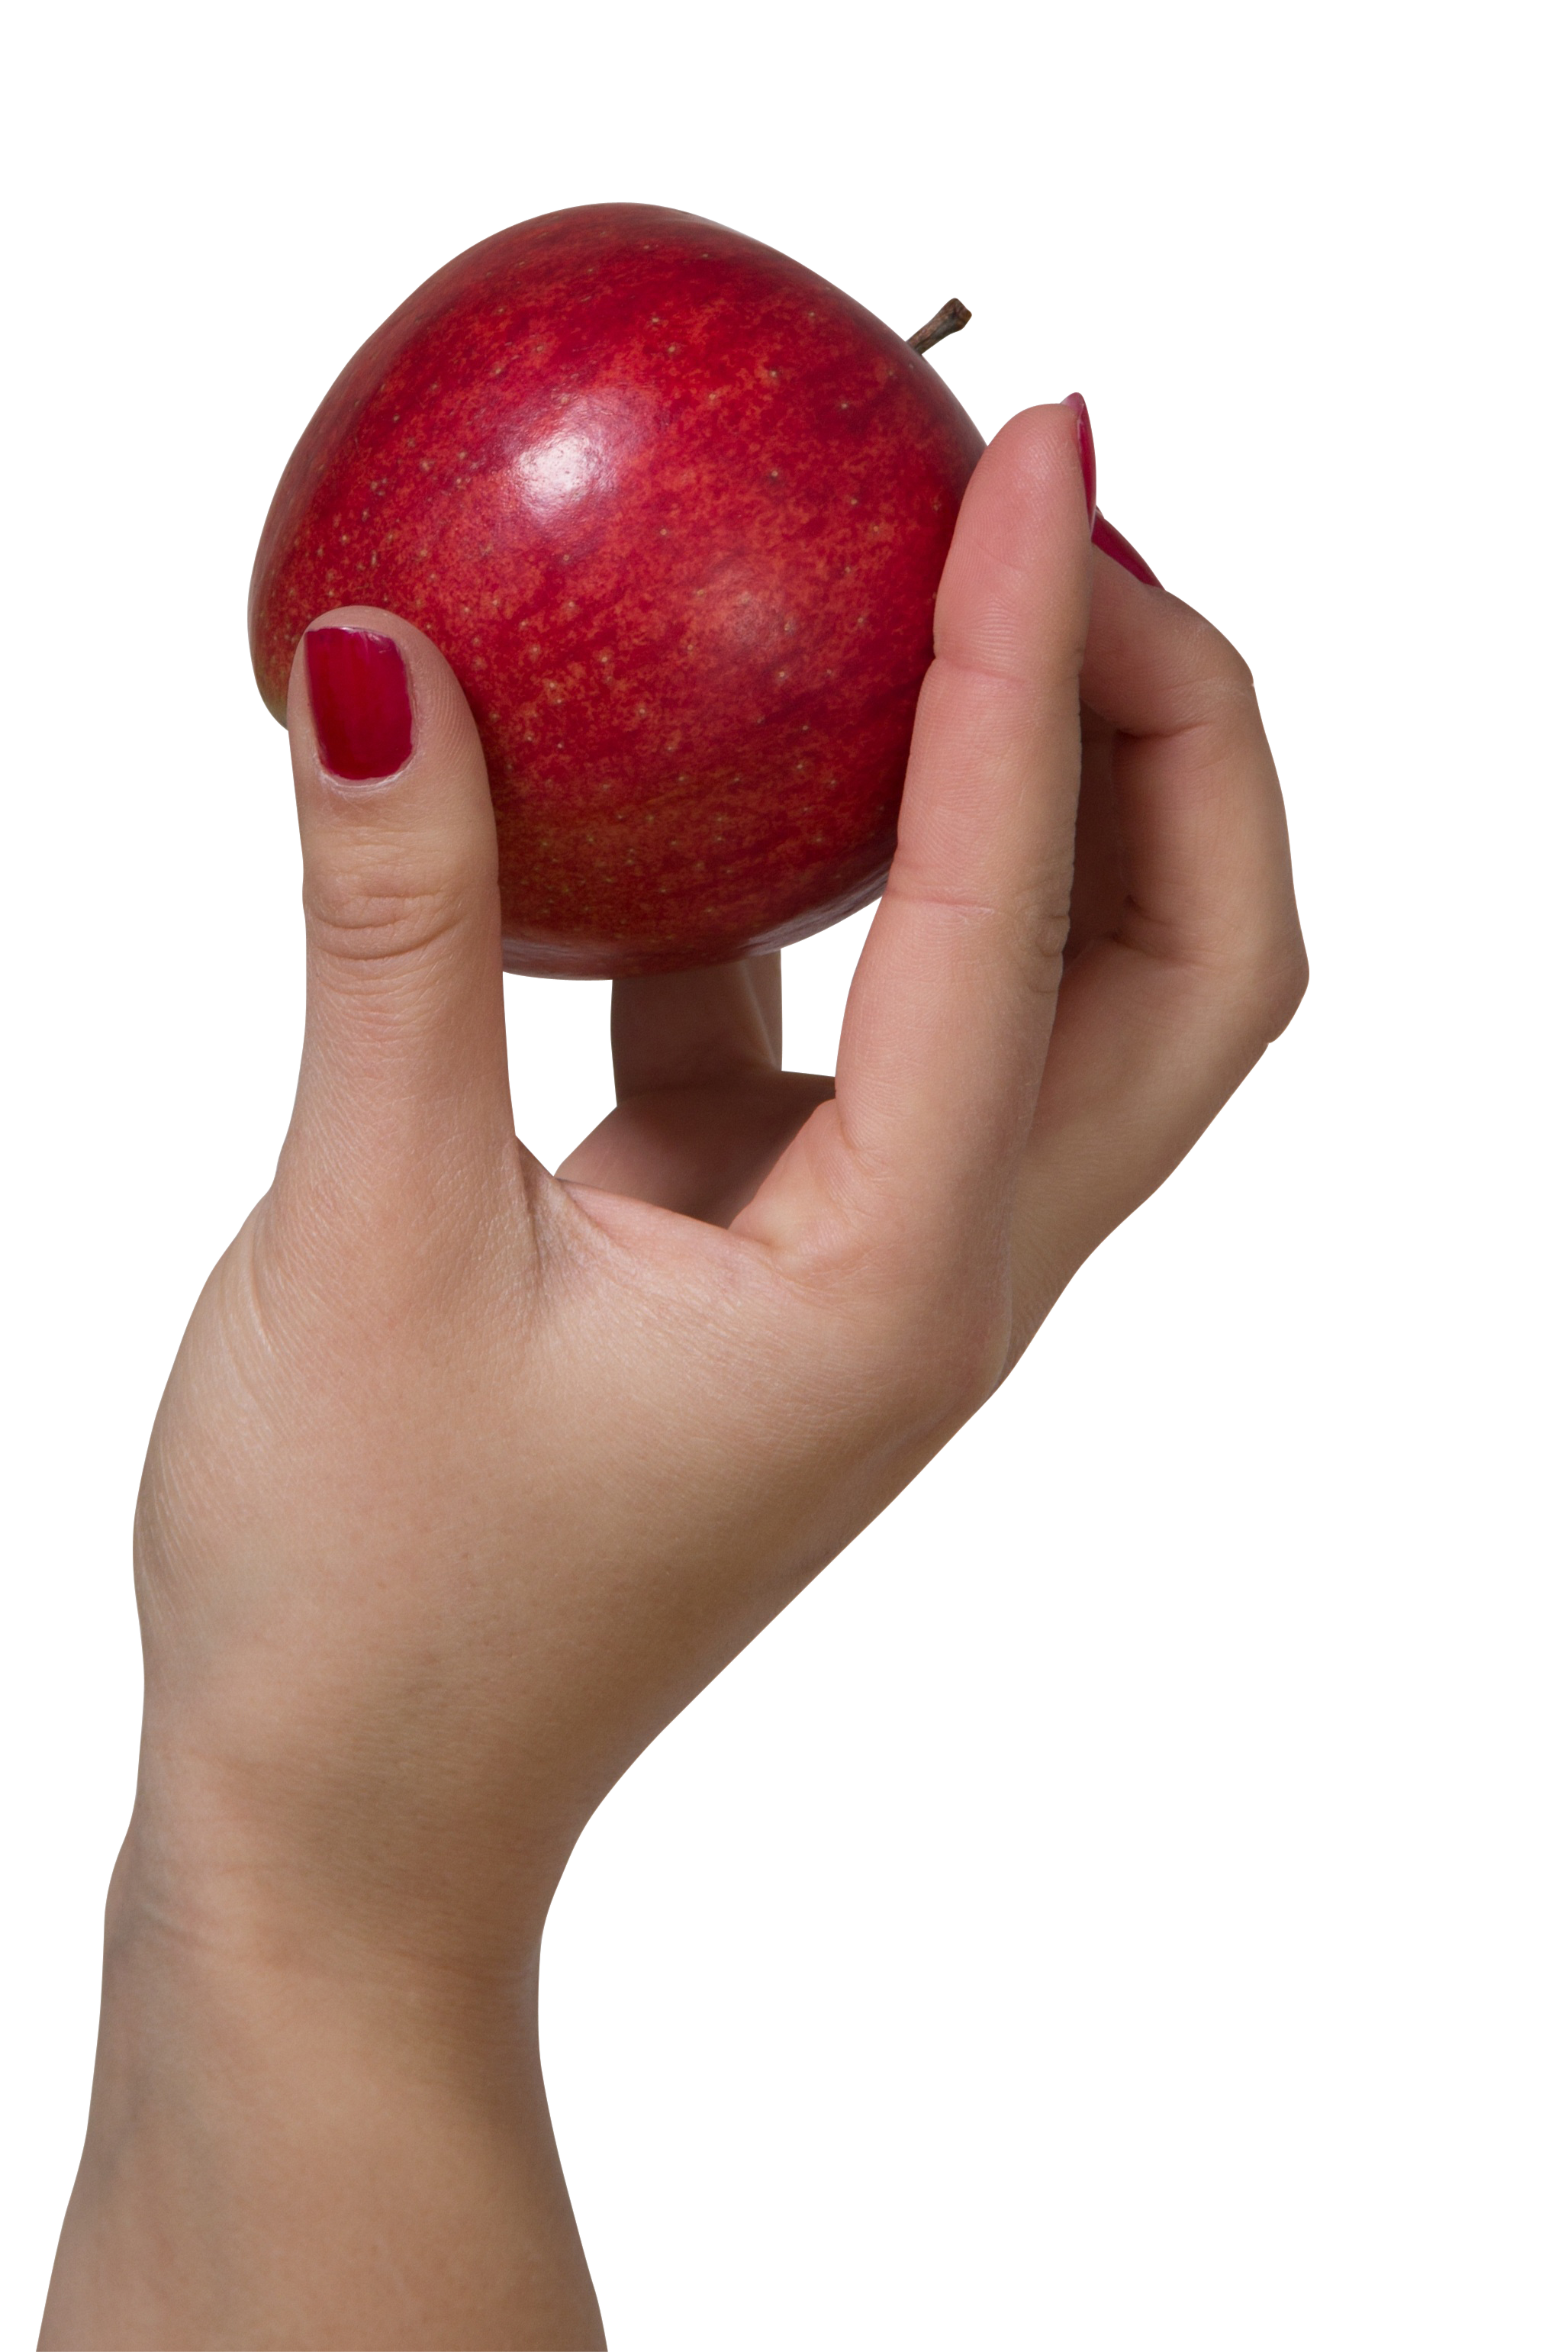apple: (236, 201, 1076, 983)
